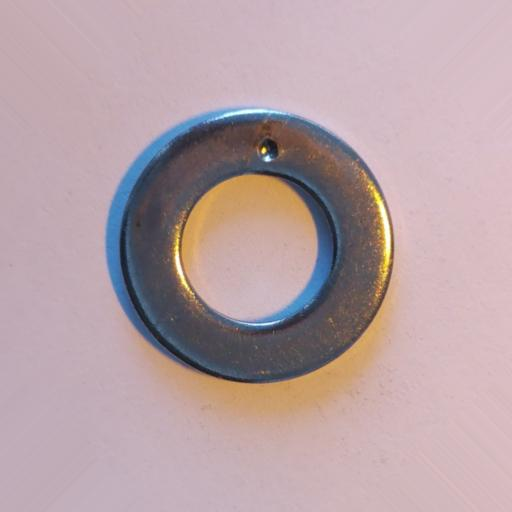circular_cavity: (257, 137, 279, 162)
